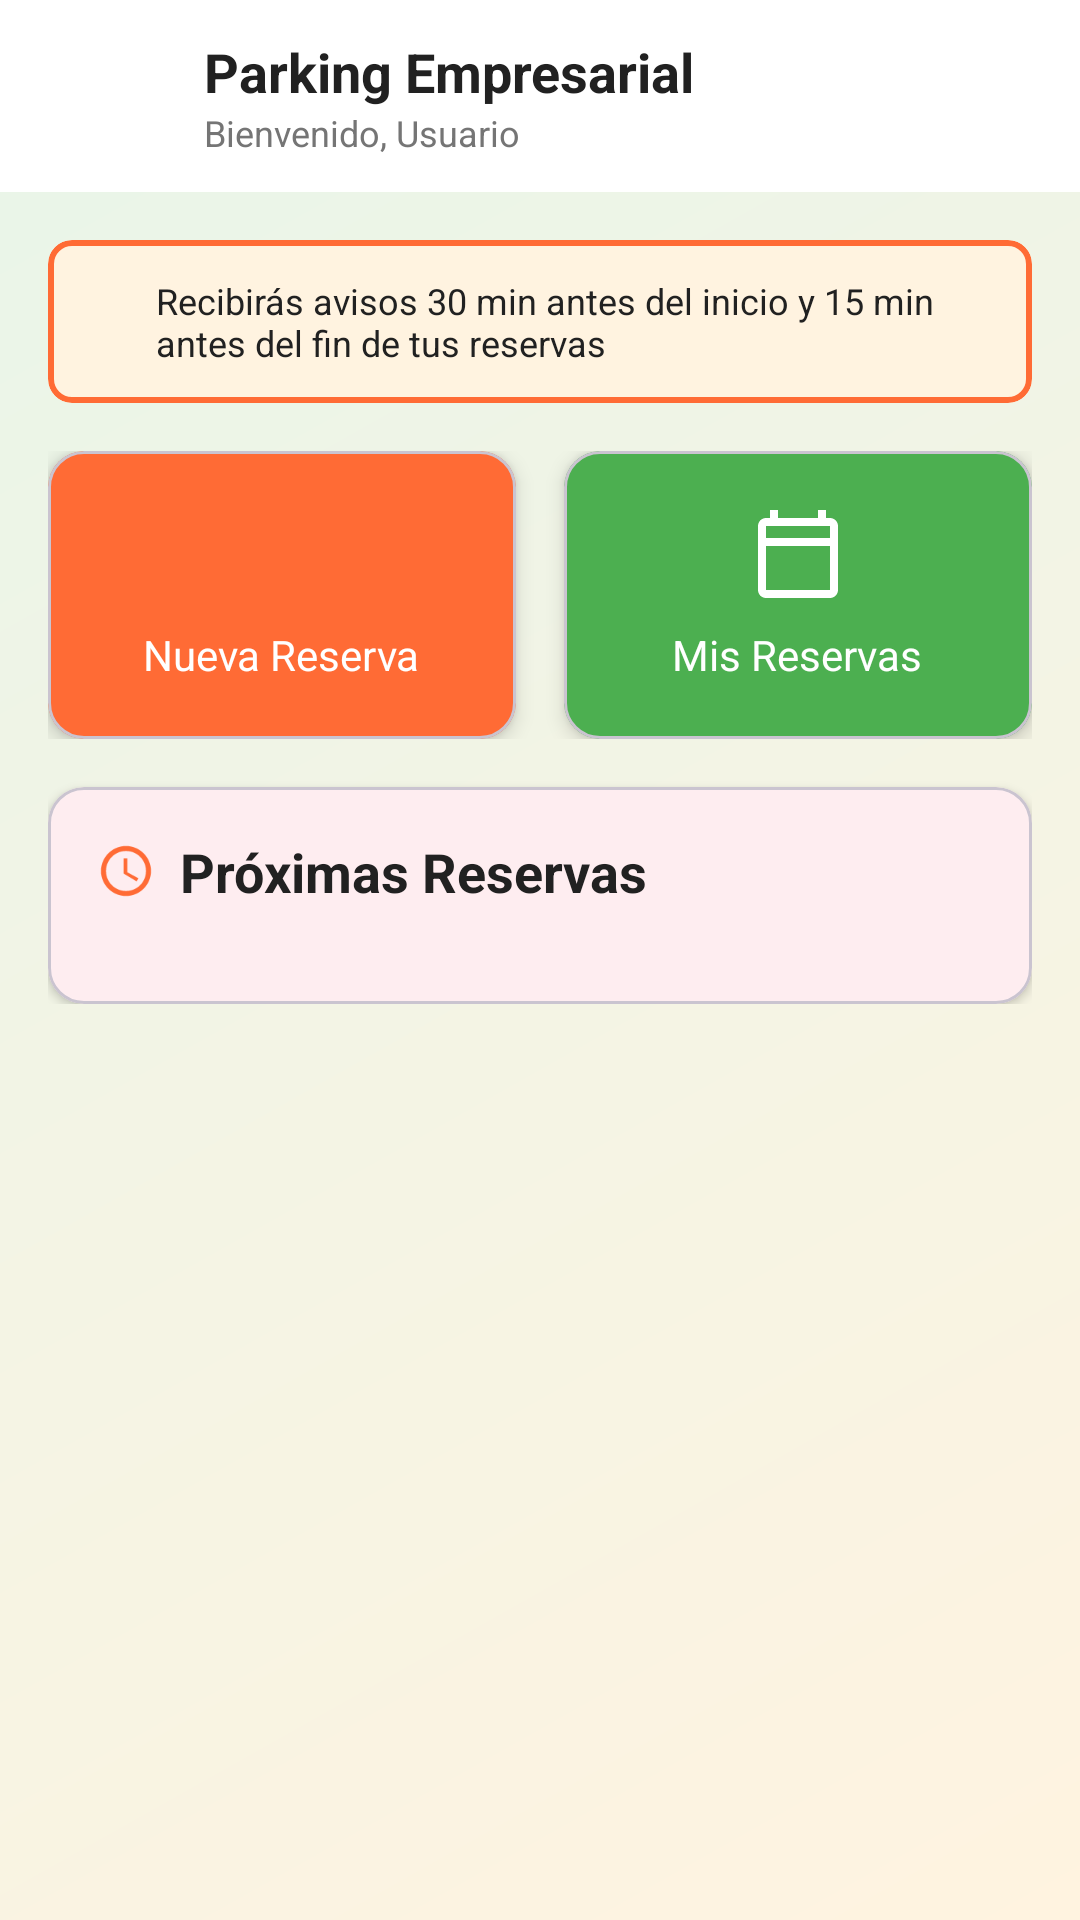

Named icons in this screenshot (1080 x 1920) and their centers, [x,y]:
calendar: [798,554]
clock: [126,871]
